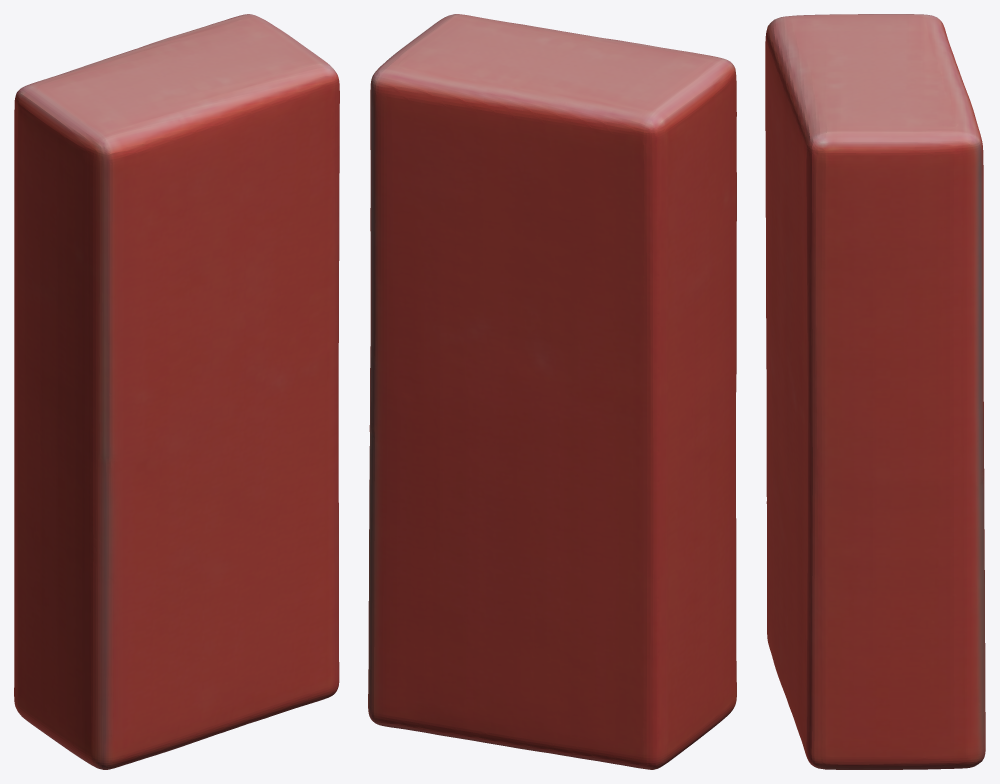
File: obj3_scaled_obb.glb
3 renders of one model, left to right at view 1: azimuth 30°, elevation 25°; view 2: azimuth 150°, elevation 25°; view 3: azimuth 270°, elevation 25°, orthographic. The views are drawn at different scales.
Visible parts, largest first — view 1: world; view 2: world; view 3: world.
Part boxes in pixels (x1,y1,x2,y2): world: (14, 14, 339, 769); world: (368, 14, 736, 769); world: (765, 14, 985, 769).
Size of the model in its own units: 0.0393 by 0.0879 by 0.0274.
